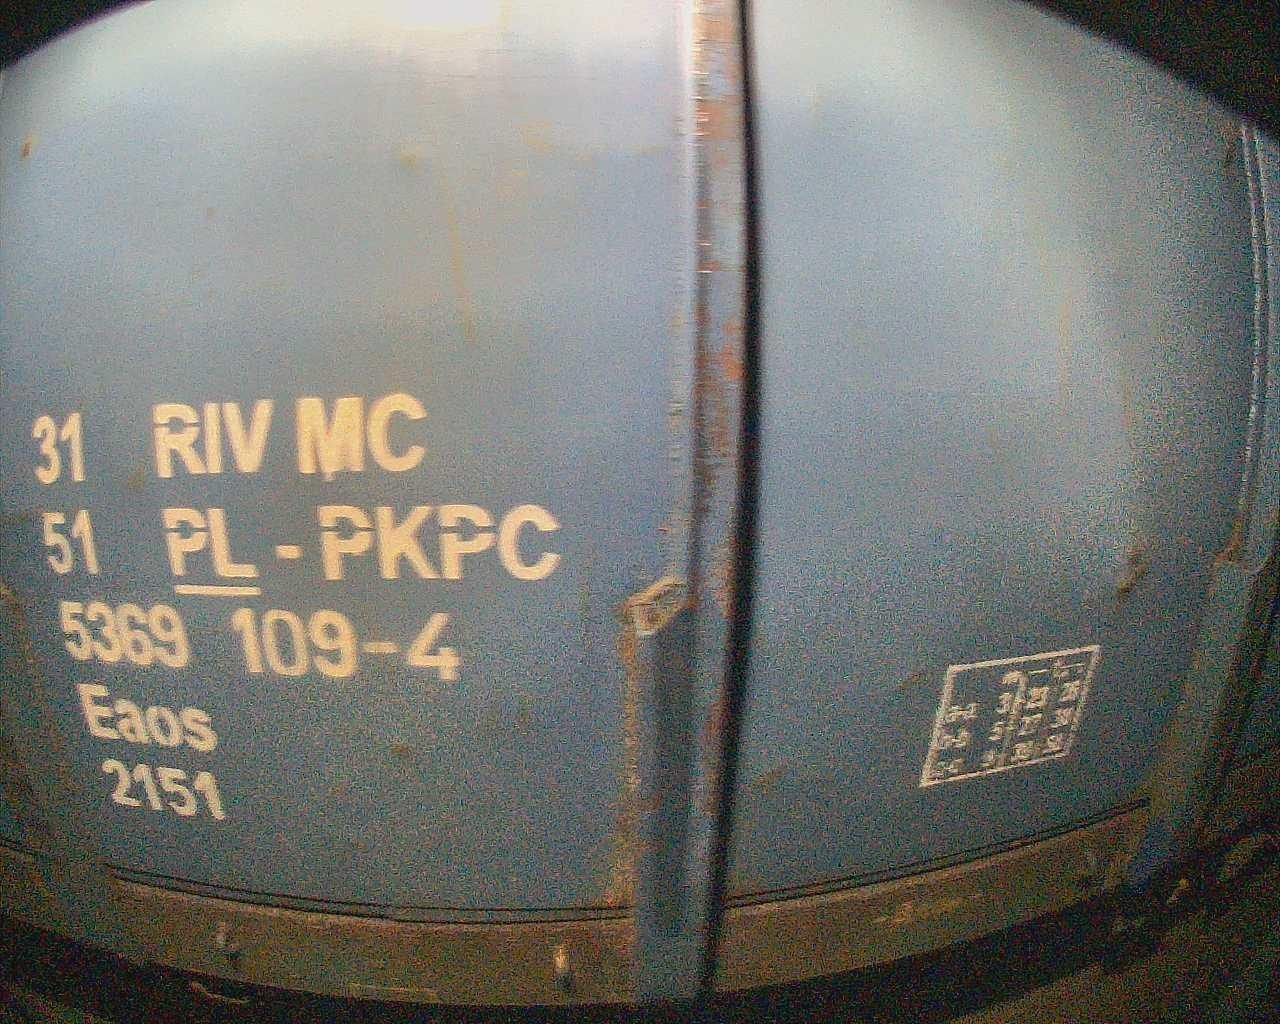UIC: (22, 390, 564, 823)
